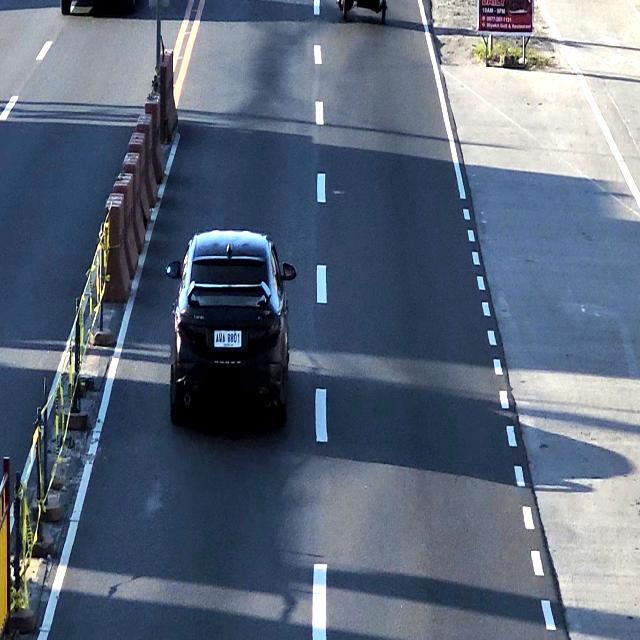Car: (170, 227, 294, 429)
License-Plate: (212, 329, 243, 352)
